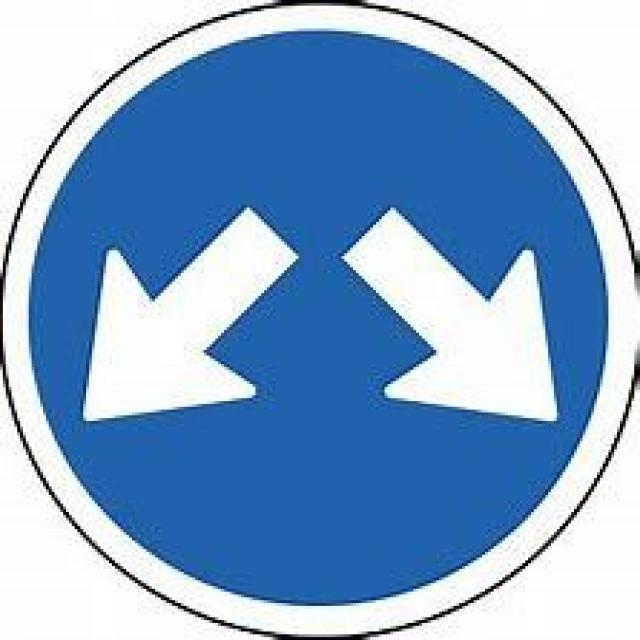pass either side: (26, 27, 611, 605)
